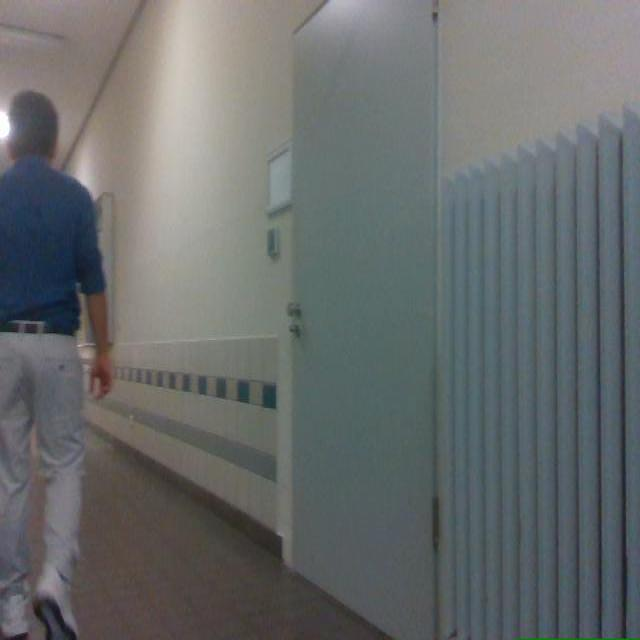humans: (0, 91, 111, 639)
